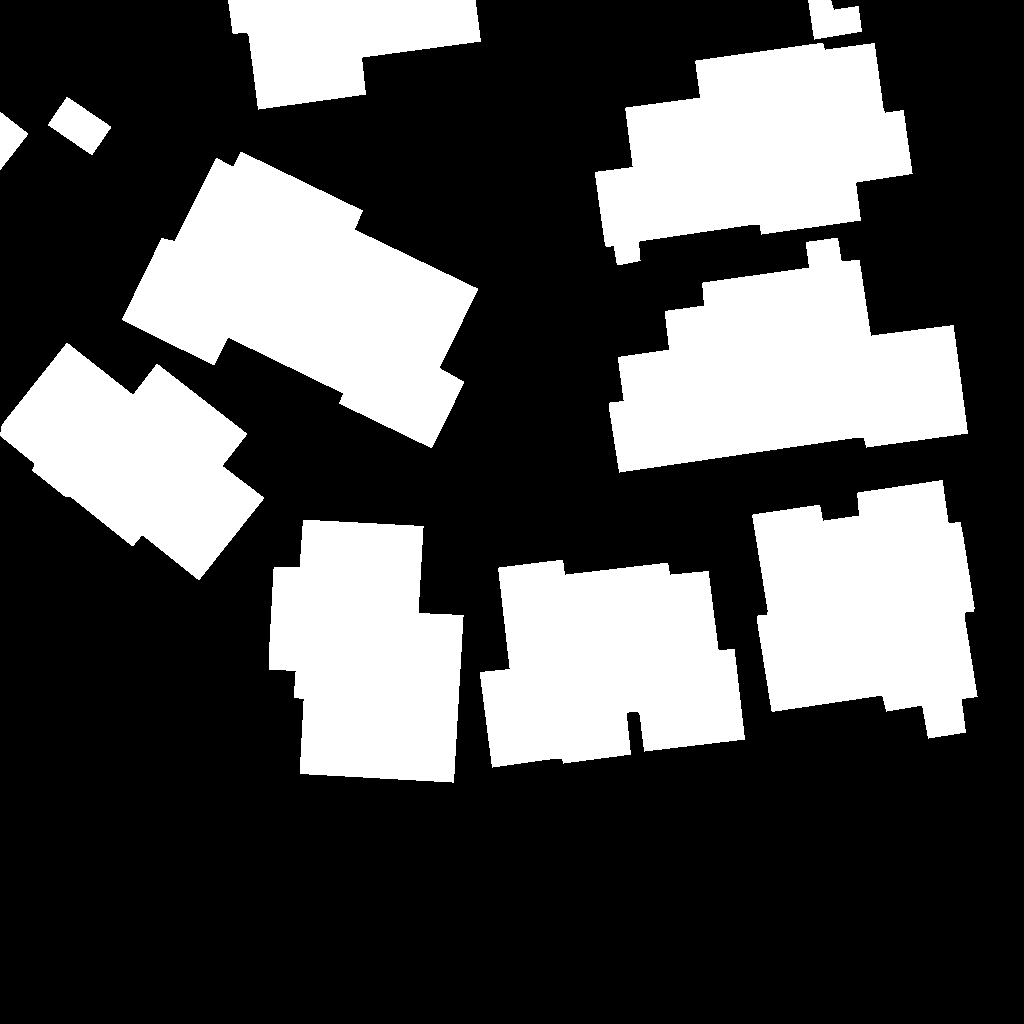building: (122, 152, 479, 449), (609, 238, 969, 473), (595, 43, 913, 266), (0, 343, 265, 581), (752, 480, 978, 739), (480, 560, 746, 768), (269, 520, 464, 783), (228, 0, 482, 110), (48, 97, 112, 156), (808, 0, 863, 40), (0, 112, 29, 171), (644, 0, 652, 2)
